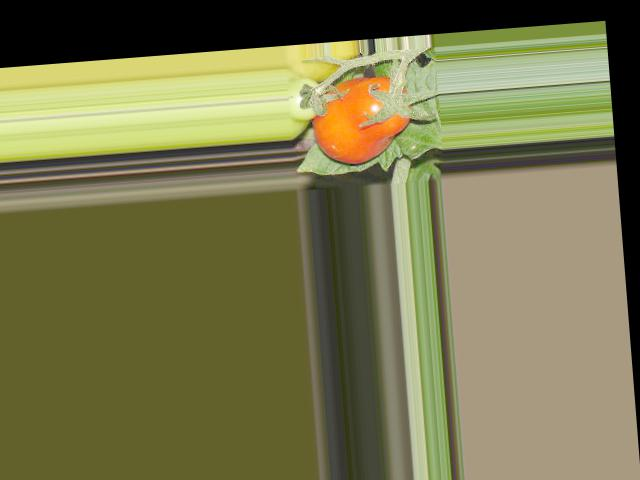tomato: (310, 74, 414, 166)
